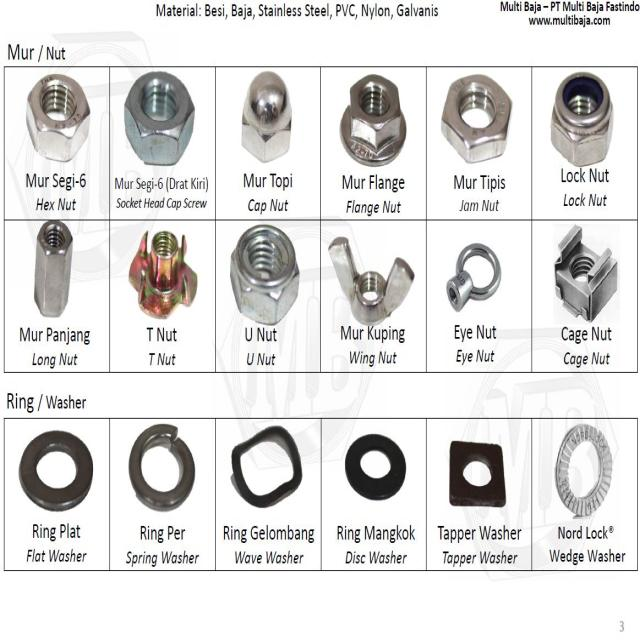Logam: (317, 222, 423, 374), (120, 233, 234, 362), (536, 55, 625, 202), (437, 47, 524, 190), (120, 404, 204, 552), (18, 424, 113, 552), (439, 222, 530, 354), (333, 59, 416, 202), (10, 65, 112, 178), (119, 45, 199, 189), (241, 50, 318, 193), (222, 231, 315, 345), (23, 216, 102, 346), (231, 400, 310, 521), (334, 412, 416, 521), (448, 408, 525, 524), (546, 412, 618, 528), (546, 224, 612, 348)
